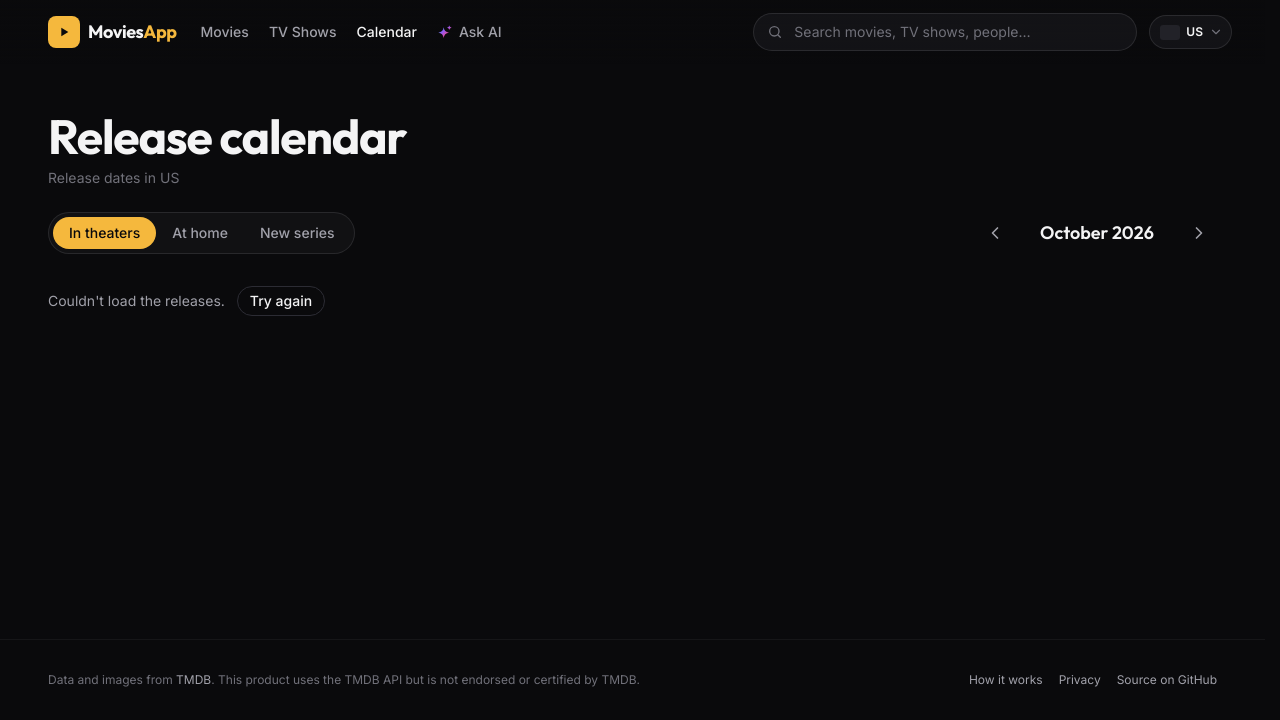
AI assistant › is offered in the search box when the query reads like a request
Type "Inception" into the dropdown named "Search movies, TV shows and people" at [945, 32], box [753,13,1137,51]
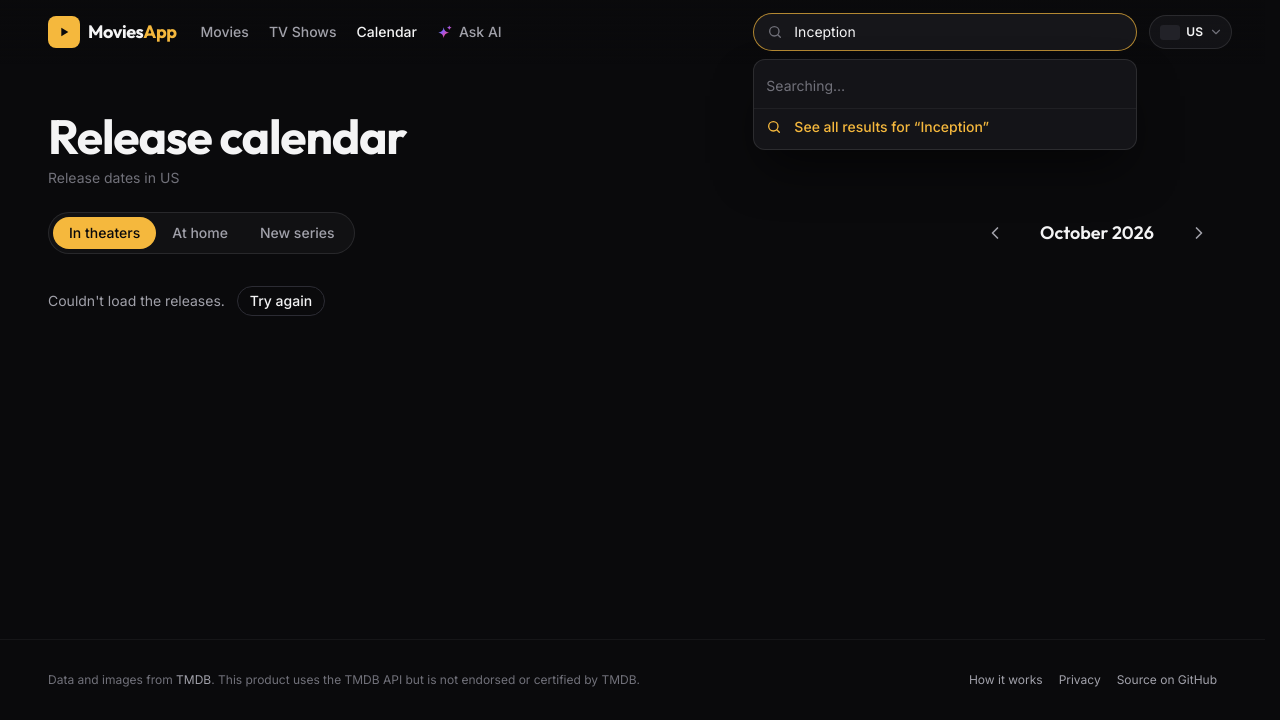
Replace the text in the dropdown named "Search movies, TV shows and people" with "something funny tonight" at [945, 32], box [753,13,1137,51]
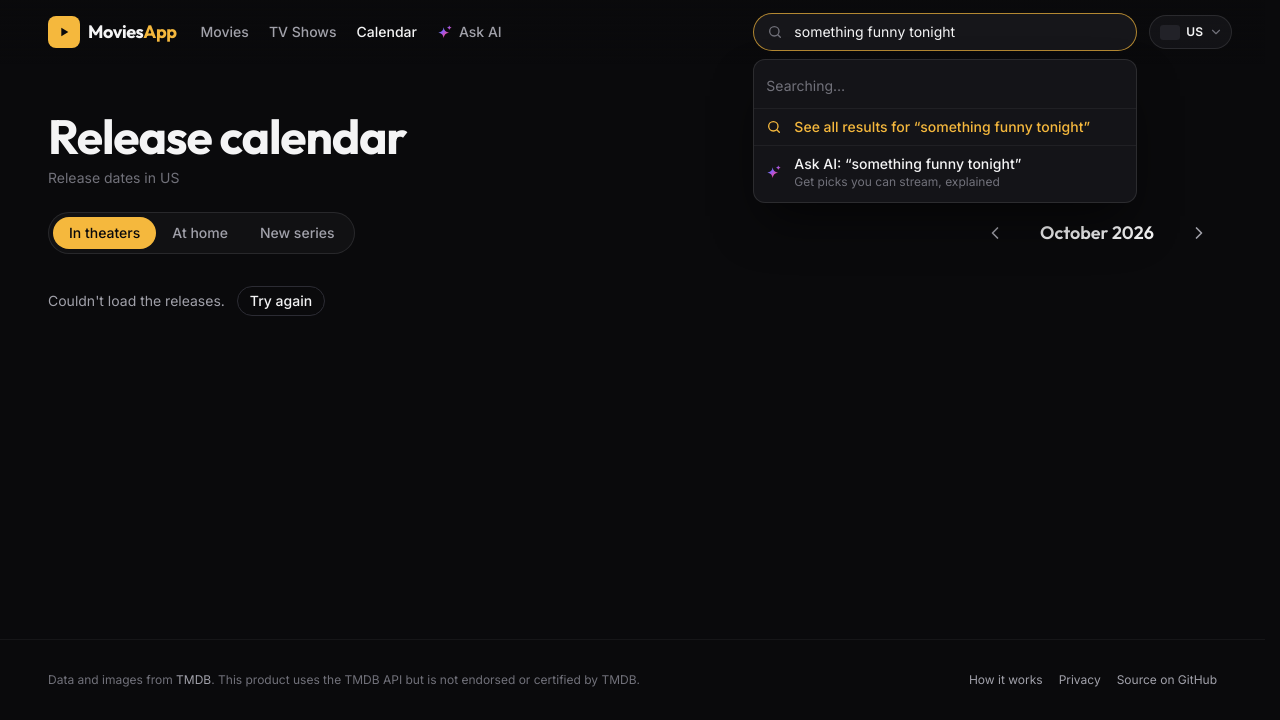
Click the button that starts with "Ask AI: “" at [945, 172], box [754,146,1136,198]
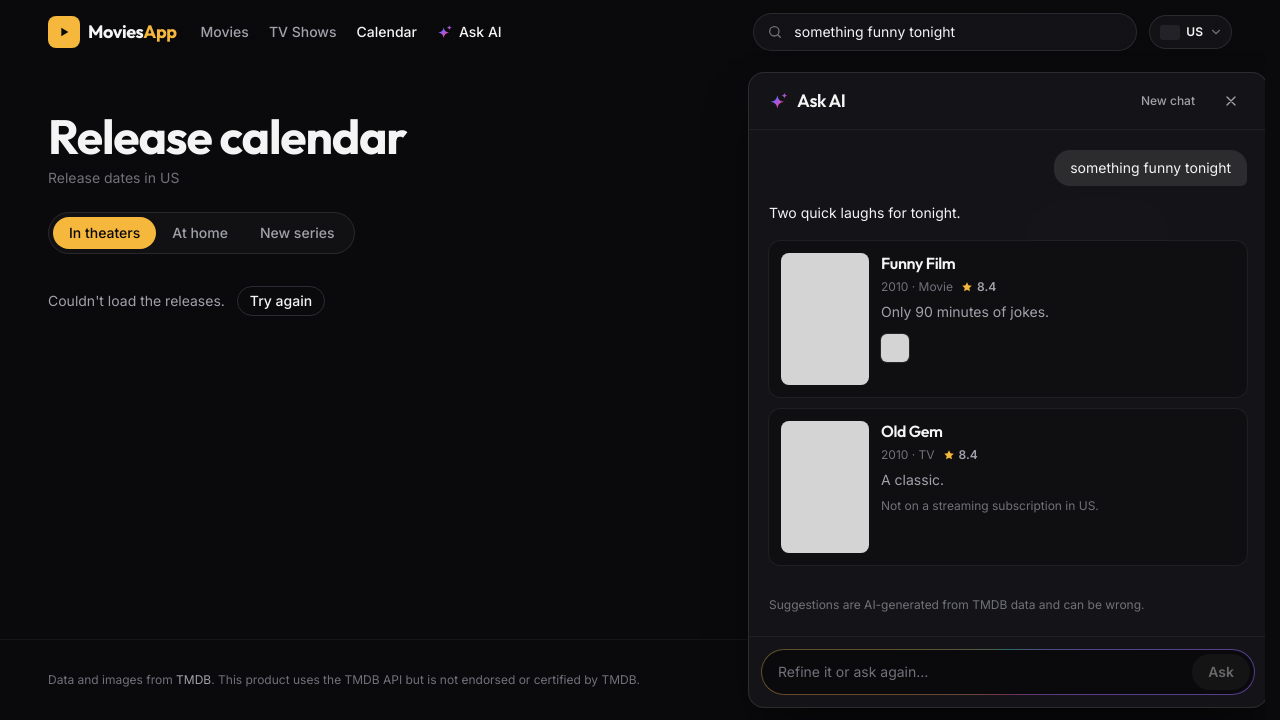
Now the text "Two quick laughs for tonight." is shown, box [769,204,961,221]
